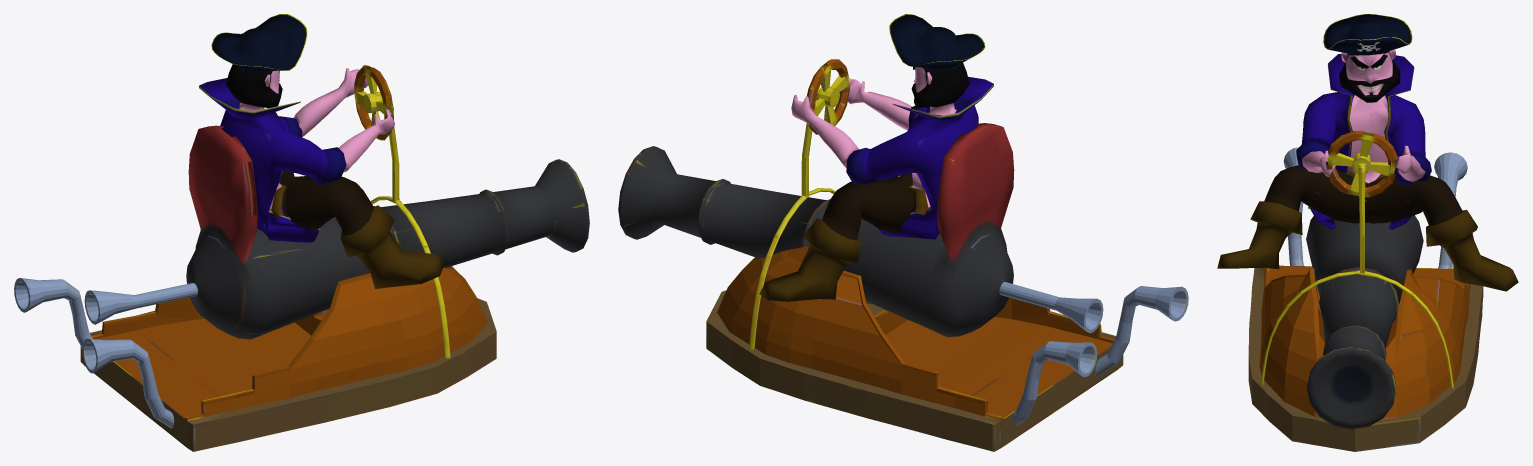
File: PirataConducion.obj
The picture shows the model from 3 angles, left to right: view 1: azimuth 30°, elevation 25°; view 2: azimuth 150°, elevation 25°; view 3: azimuth 270°, elevation 25°; orthographic projection. The views are drawn at different scales.
Parts seen in each view (by area): view 1: carro_pirata, Pirata_PirataH; view 2: carro_pirata, Pirata_PirataH; view 3: carro_pirata, Pirata_PirataH.
Part boxes in pixels (box(x1,y1,x2,y2)): carro_pirata: box(14, 65, 589, 451); Pirata_PirataH: box(199, 14, 445, 288); carro_pirata: box(618, 59, 1188, 451); Pirata_PirataH: box(759, 14, 993, 301); carro_pirata: box(1248, 130, 1483, 451); Pirata_PirataH: box(1217, 14, 1518, 291).
Bounding box in the file's own units: 12.1 × 7.92 × 6.55.
2 materials, 2 textured.
